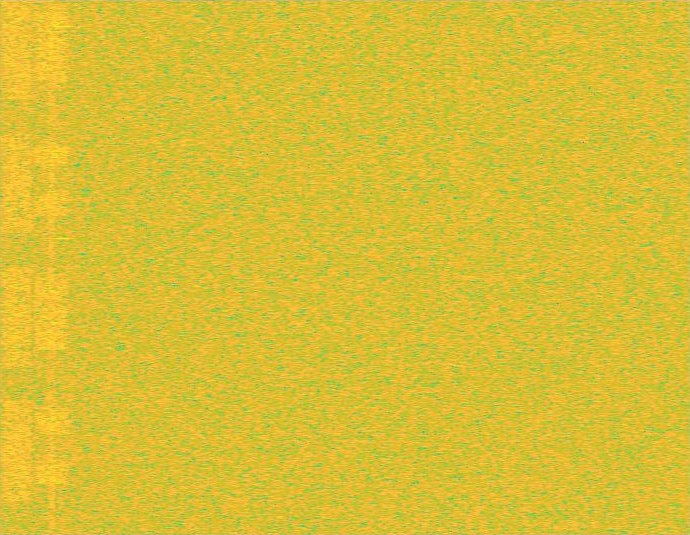5G: (0, 0, 35, 534)
DSSS: (48, 0, 56, 534)
LTE: (35, 0, 69, 534)
Radar: (55, 0, 69, 534)
